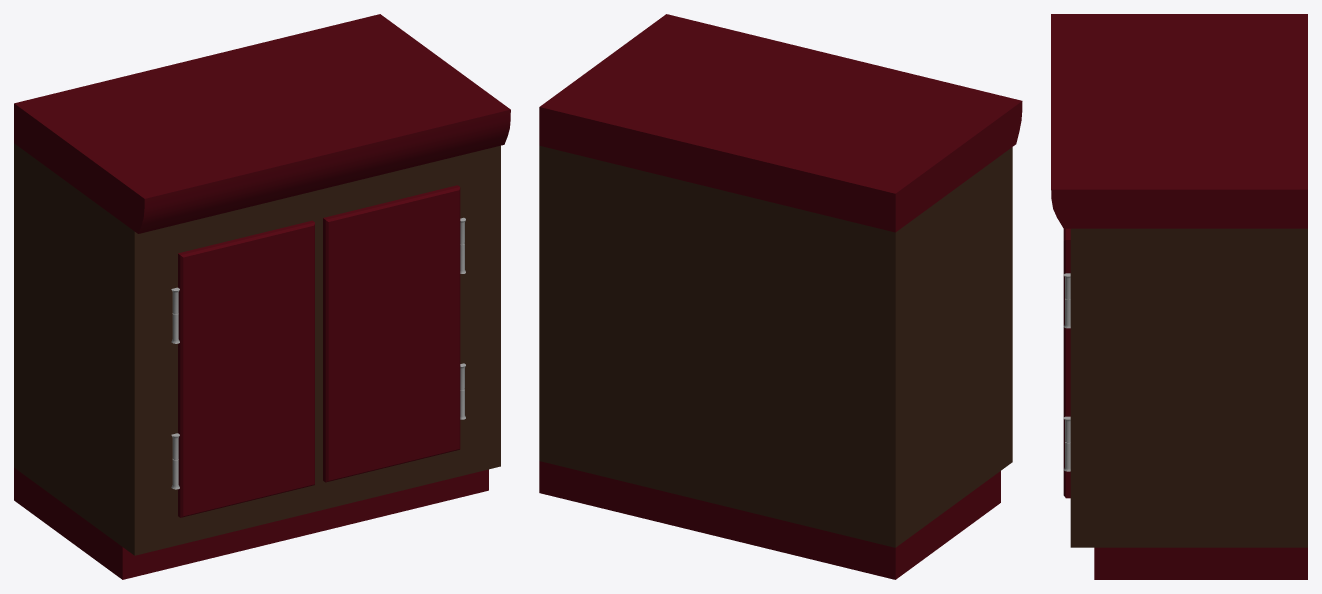
File: SM_ArmoireHaut.fbx
3 views of the same model, side by side, from view 1: azimuth 30°, elevation 25°; view 2: azimuth 150°, elevation 25°; view 3: azimuth 270°, elevation 25° (orthographic). The views are drawn at different scales.
Parts seen in each view (by area): view 1: SM_ArmoireHaut; view 2: SM_ArmoireHaut; view 3: SM_ArmoireHaut.
Boxes of the visible parts, x1,y1,x2,y2 form: SM_ArmoireHaut: (14, 14, 510, 579); SM_ArmoireHaut: (539, 14, 1022, 579); SM_ArmoireHaut: (1051, 14, 1307, 579).
Size of the model in its own units: 64.67 by 67.03 by 39.95.
